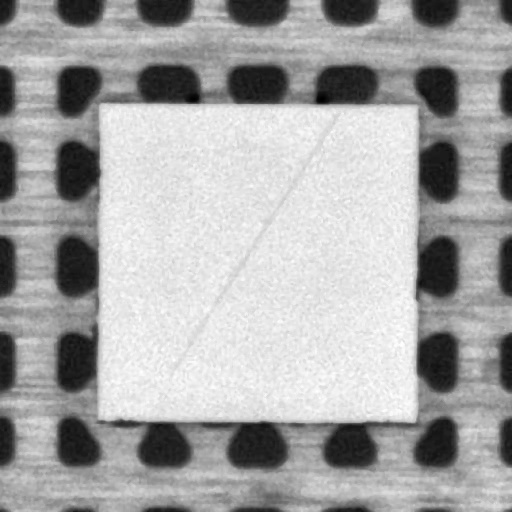DIE_CRACK: (169, 112, 336, 374)
